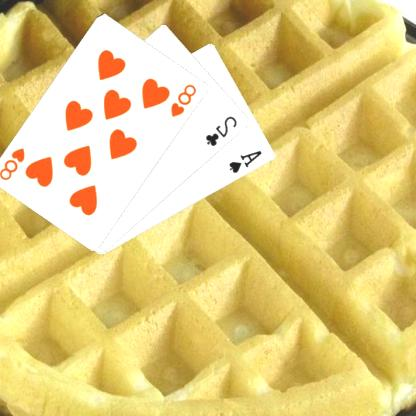2C: (204, 113, 240, 148)
8H: (170, 81, 200, 119), (0, 145, 29, 182)
AS: (228, 148, 266, 175)
